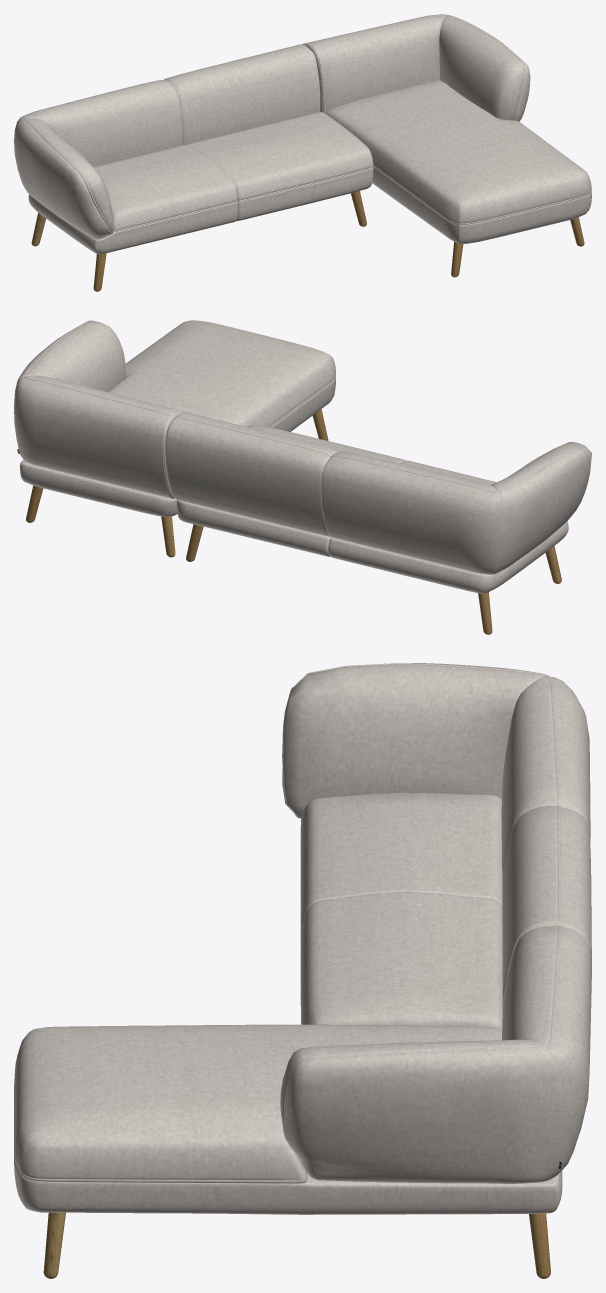
Rendered from sectional-l-shape.glb.
3 renders of one model, top to bottom at view 1: azimuth 30°, elevation 25°; view 2: azimuth 150°, elevation 25°; view 3: azimuth 270°, elevation 25°, orthographic. The views are drawn at different scales.
Parts seen in each view (by area): view 1: B07K8Z4VGB; view 2: B07K8Z4VGB; view 3: B07K8Z4VGB.
Boxes of the visible parts, bbox=[...] form: B07K8Z4VGB: bbox=[14, 14, 591, 291]; B07K8Z4VGB: bbox=[14, 320, 591, 634]; B07K8Z4VGB: bbox=[14, 663, 591, 1278].
Size of the model in its own units: 2.66 by 0.73 by 1.61.
1 material, 1 textured.
